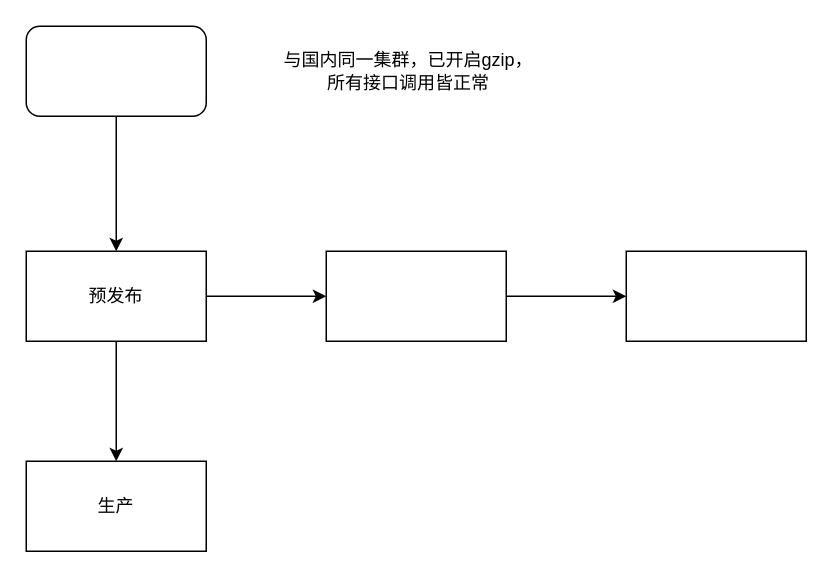
This 833x578 diagram has some shape labels left out. Each missing label, with the centre of its shape:
导购流程验证通过: (x=415, y=295)
测试环境: (x=115, y=70)
